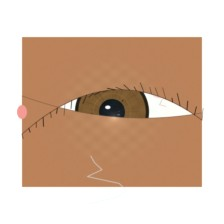foreign_body_visible: (144, 77, 175, 102)
